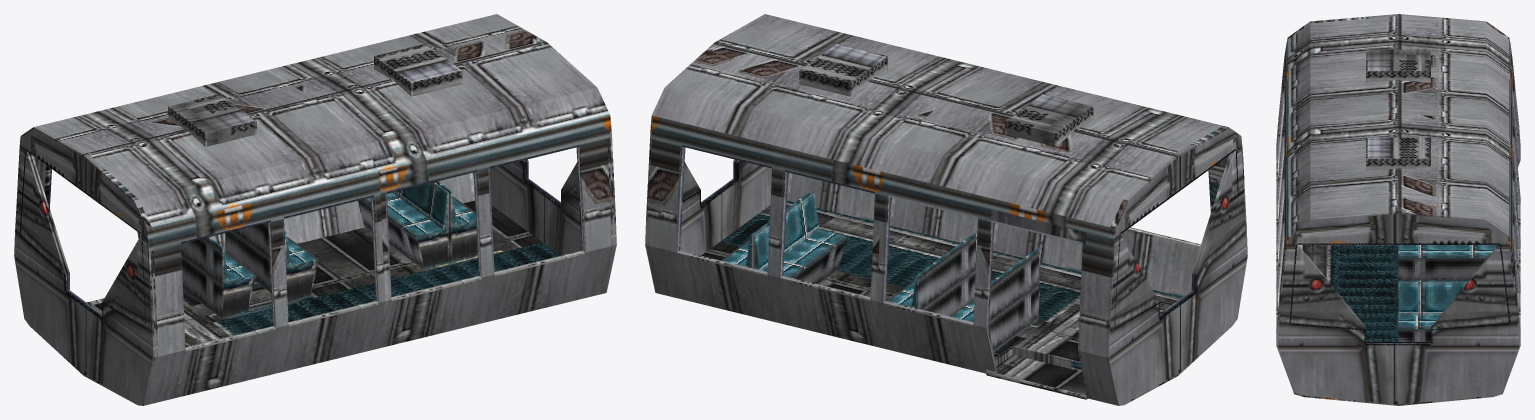
The model's file is tram.obj.
The picture shows the model from 3 angles, left to right: view 1: azimuth 30°, elevation 25°; view 2: azimuth 150°, elevation 25°; view 3: azimuth 270°, elevation 25°; orthographic projection. The views are drawn at different scales.
Parts seen in each view (by area): view 1: Tram186, Tram185, Tram222, Tram226, Tram280, Tram277, Tram204, Tram205, Tram215, Tram273, Tram214, Tram276 (+42 smaller); view 2: Tram171, Tram25, Tram277, Tram215, Tram214, Tram65, Tram64, Tram222, Tram226, Tram273, Tram170, Tram276 (+45 smaller); view 3: Tram263, Tram262, Tram260, Tram277, Tram261, Tram214, Tram226, Tram215, Tram222, Tram122, Tram149, Tram204 (+40 smaller).
Part boxes in pixels (x1,y1,x2,y2): Tram186: (142,301,384,405); Tram185: (375,245,616,349); Tram222: (107,115,365,198); Tram226: (334,60,591,143); Tram280: (183,200,541,321); Tram277: (184,242,560,346); Tram204: (369,95,609,171); Tram205: (142,152,378,227); Tram215: (39,70,296,143); Tram273: (102,235,154,379); Tram214: (265,15,523,88); Tram276: (15,146,66,318); Tram171: (645,245,886,349); Tram25: (787,172,1199,296); Tram277: (720,200,1182,329); Tram215: (896,115,1154,198); Tram214: (670,60,927,143); Tram65: (656,96,892,171); Tram64: (883,152,1119,227); Tram222: (965,70,1222,143); Tram226: (738,15,996,88); Tram273: (1195,146,1247,318); Tram170: (877,301,996,375); Tram276: (1107,235,1159,379); Tram263: (1276,245,1365,367); Tram262: (1431,245,1520,367); Tram260: (1284,367,1511,405); Tram277: (1299,245,1398,341); Tram261: (1286,212,1510,244); Tram214: (1431,116,1486,217); Tram226: (1310,116,1365,217); Tram215: (1431,19,1486,120); Tram222: (1310,19,1365,120); Tram122: (1398,255,1488,280); Tram149: (1398,282,1466,315); Tram204: (1287,125,1304,236).
Bounding box in the file's own units: 288 × 137 × 150.
